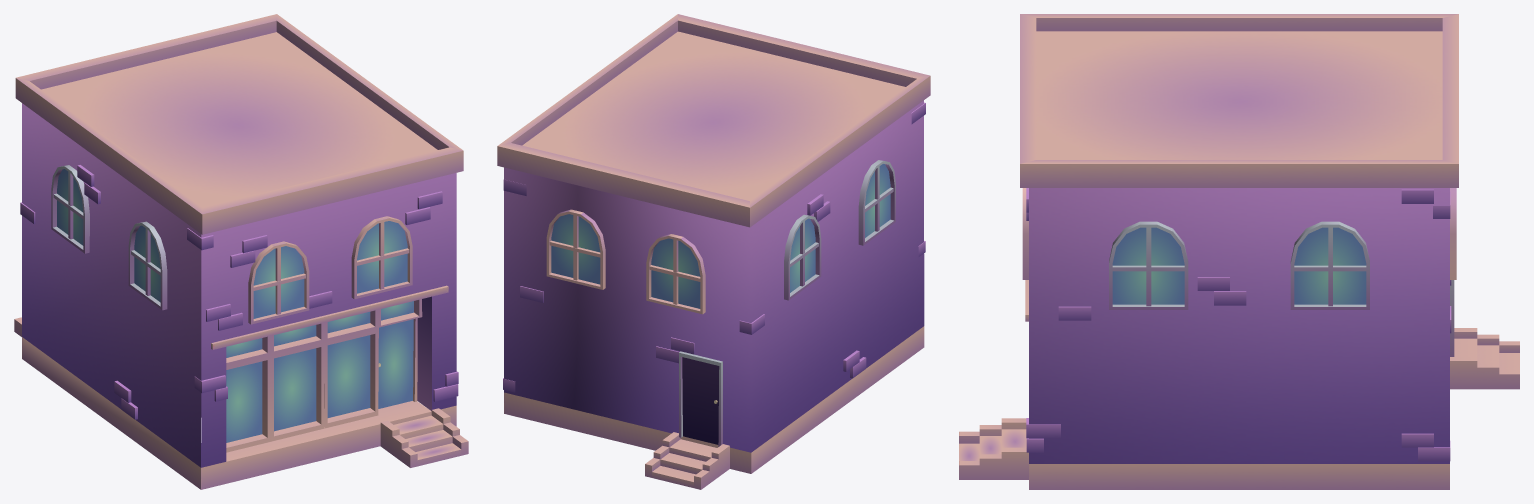
3 renders of one model, left to right at view 1: azimuth 30°, elevation 25°; view 2: azimuth 150°, elevation 25°; view 3: azimuth 270°, elevation 25°, orthographic. The views are drawn at different scales.
Parts seen in each view (by area): view 1: SM_2F_06; view 2: SM_2F_06; view 3: SM_2F_06.
Boxes of the visible parts, x1,y1,x2,y2 form: SM_2F_06: (14,14,468,489); SM_2F_06: (497,14,930,489); SM_2F_06: (959,14,1519,489).
Bounding box in the file's own units: 7.78 × 12.09 × 7.81.
